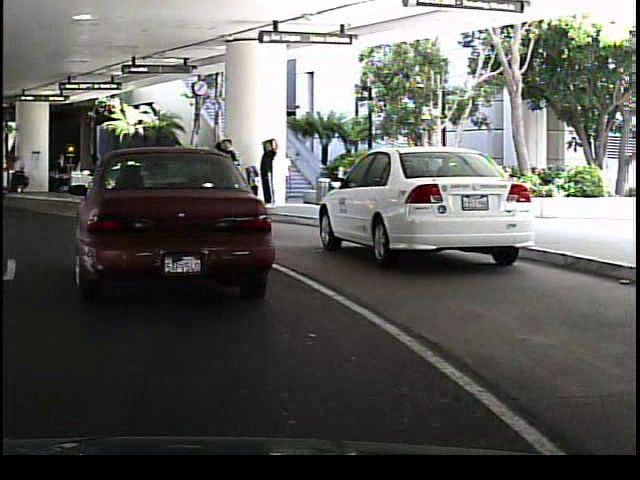person: (212, 133, 237, 210), (256, 133, 278, 210), (274, 146, 297, 207), (98, 156, 123, 196)
